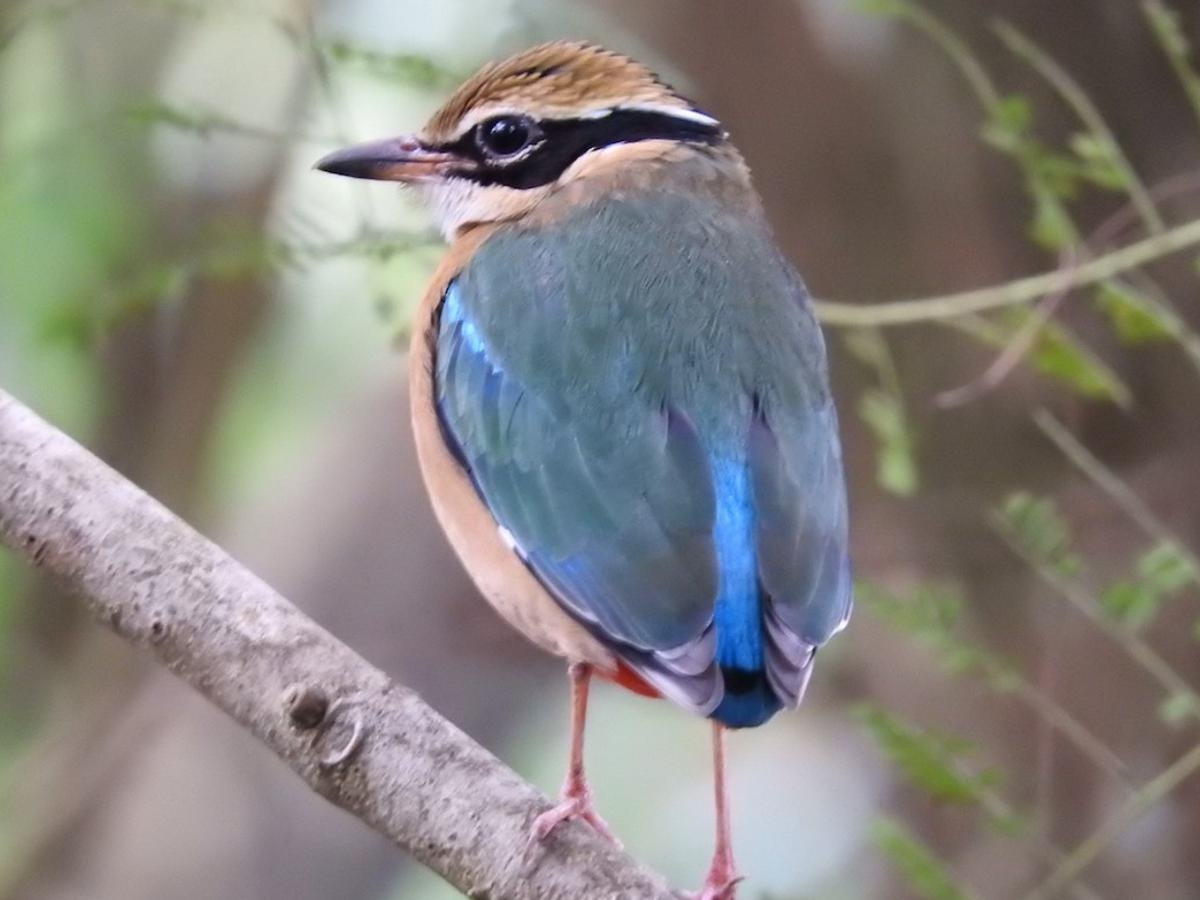pitta: (346, 20, 916, 835)
